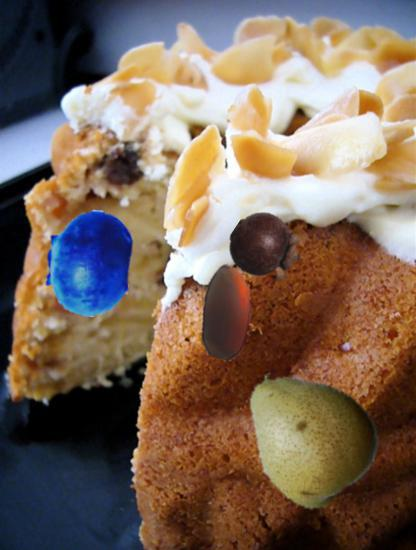Hazelnut: (179, 263, 276, 360)
Huckleberry: (36, 210, 143, 317)
Mangostan: (229, 211, 302, 284)
Pear: (233, 360, 379, 506)
